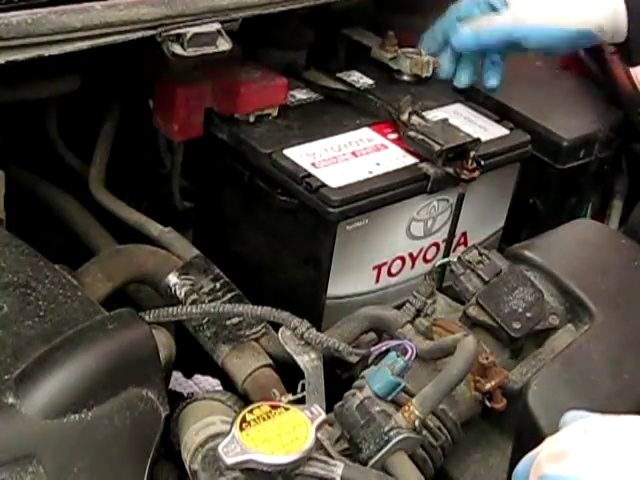battery: (176, 54, 530, 210)
neg_touched: (370, 15, 509, 97)
pos_connected: (146, 62, 297, 151)
